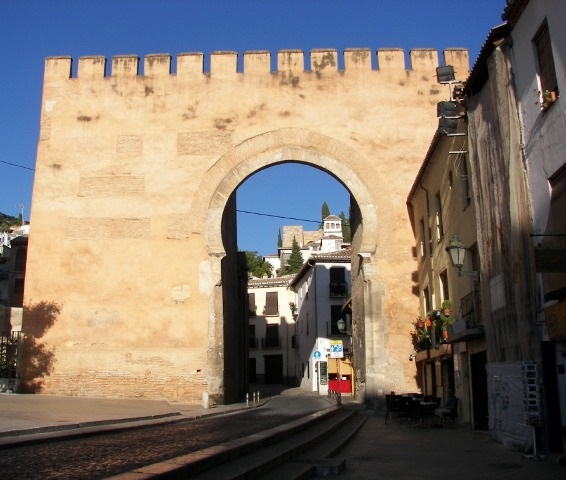arco-herradura: (211, 149, 376, 273)
